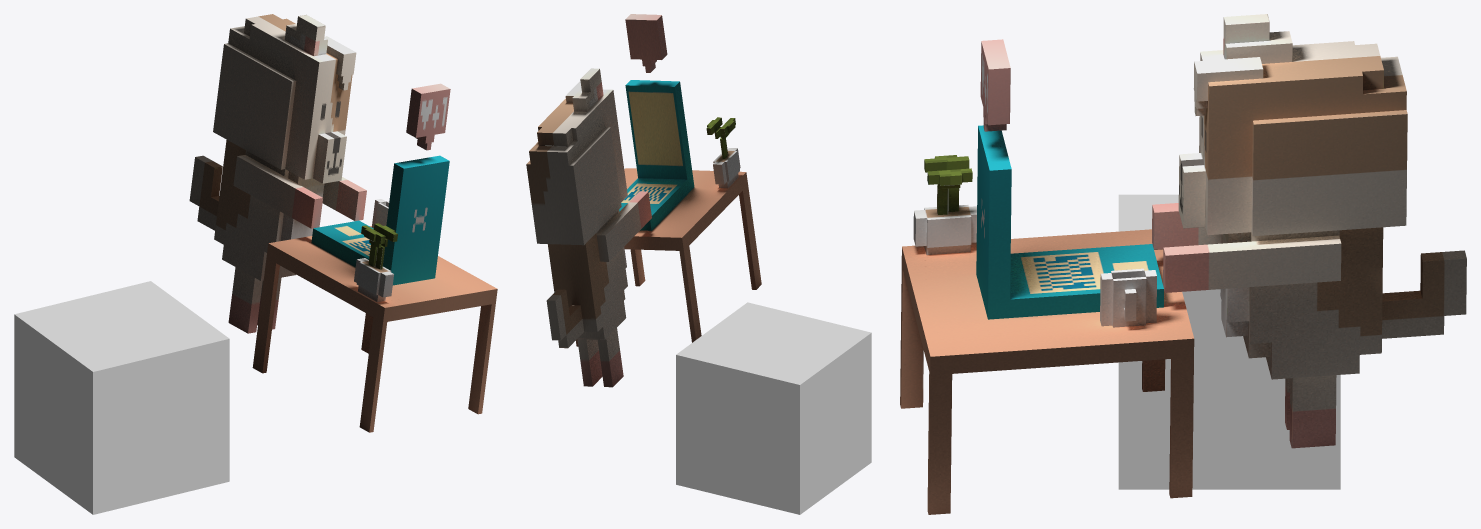
The model's file is dog.glb.
The picture shows the model from 3 angles, left to right: view 1: azimuth 30°, elevation 25°; view 2: azimuth 150°, elevation 25°; view 3: azimuth 270°, elevation 25°; orthographic projection. The views are drawn at different scales.
Parts seen in each view (by area): view 1: main, Cube; view 2: main, Cube; view 3: main, Cube.
Boxes of the visible parts, x1=… form: main: x1=189, y1=14, x2=497, y2=432; Cube: x1=14, y1=281, x2=229, y2=514; main: x1=526, y1=14, x2=761, y2=387; Cube: x1=676, y1=302, x2=871, y2=514; main: x1=900, y1=14, x2=1466, y2=514; Cube: x1=1118, y1=194, x2=1340, y2=489.
Size of what is drawn, in the model's own units: 4.95 by 5.56 by 5.11.
Materials: 3 (2 with a texture image).
